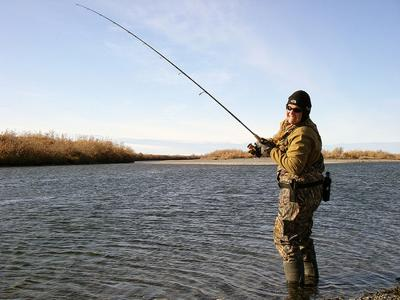person: (256, 90, 327, 281)
